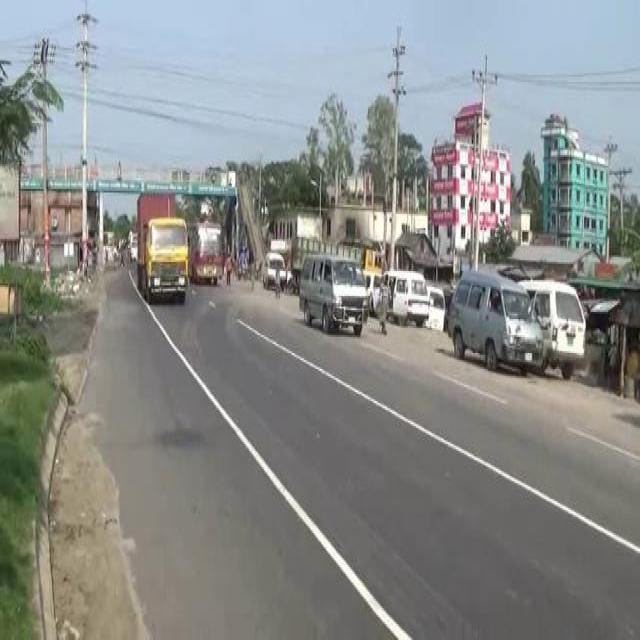bus: (188, 218, 224, 287)
pickup: (132, 186, 190, 304)
van: (442, 269, 546, 382), (294, 250, 372, 337)
